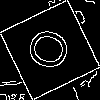O: (25, 25, 81, 77)
